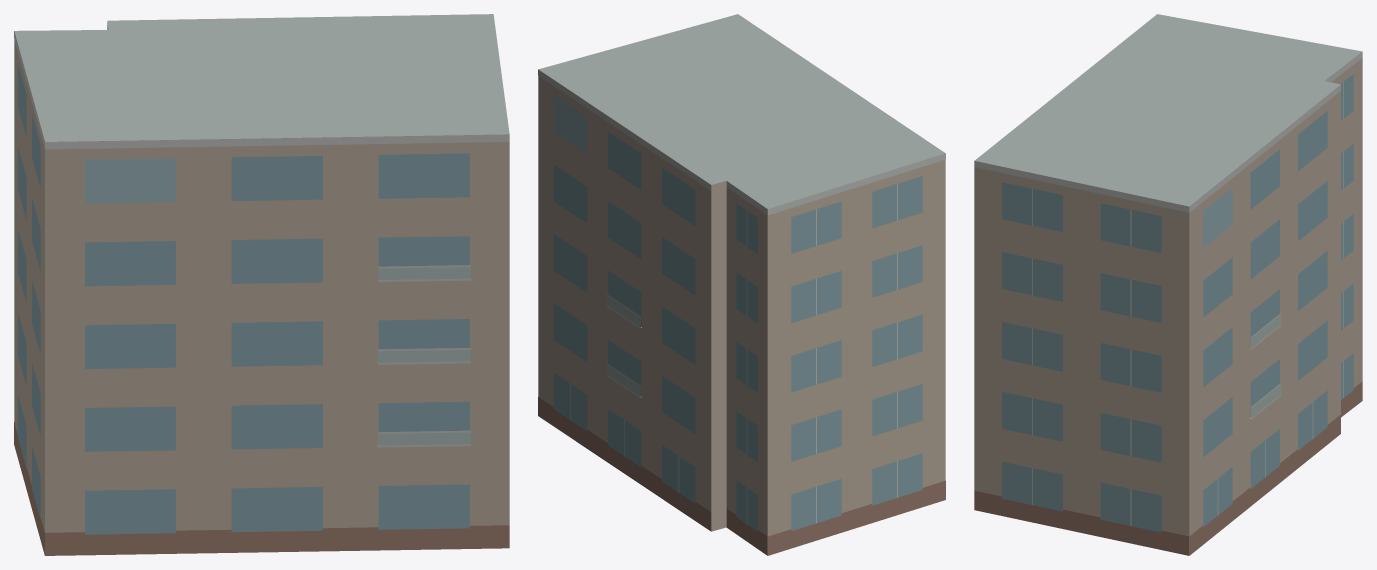
Rendered from survey-upis-32629466.glb.
3 views of the same model, side by side, from view 1: azimuth 30°, elevation 25°; view 2: azimuth 150°, elevation 25°; view 3: azimuth 270°, elevation 25° (orthographic). The views are drawn at different scales.
Visible parts, largest first — view 1: survey-upis-32629466.tmp; view 2: survey-upis-32629466.tmp; view 3: survey-upis-32629466.tmp.
Part boxes in pixels (x1,y1,x2,y2): survey-upis-32629466.tmp: (14,14,509,555); survey-upis-32629466.tmp: (538,14,945,555); survey-upis-32629466.tmp: (974,14,1362,555).
Bounding box in the file's own units: 15.97 × 13.5 × 13.61.
